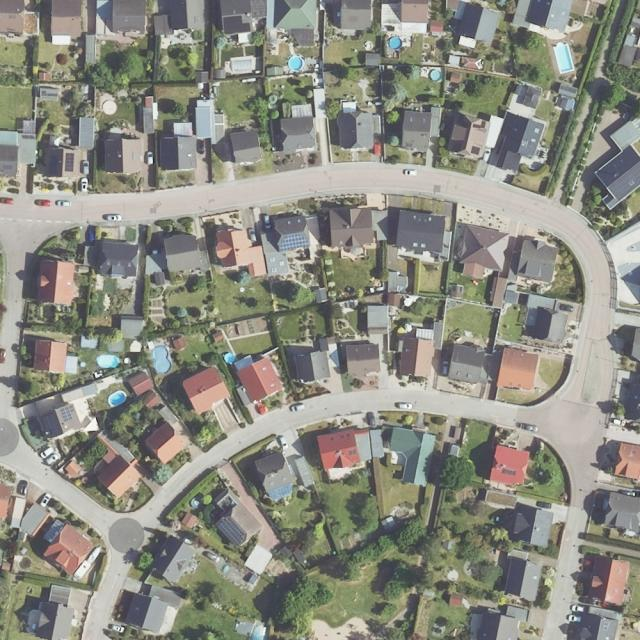PV: (214, 517, 244, 547), (281, 233, 310, 251), (223, 15, 250, 34), (42, 413, 62, 435), (61, 405, 74, 422), (65, 151, 75, 172), (473, 121, 486, 130), (470, 145, 480, 155), (42, 91, 57, 97), (602, 621, 609, 631)
ST: (501, 467, 516, 476), (525, 140, 532, 148), (348, 450, 356, 455)
